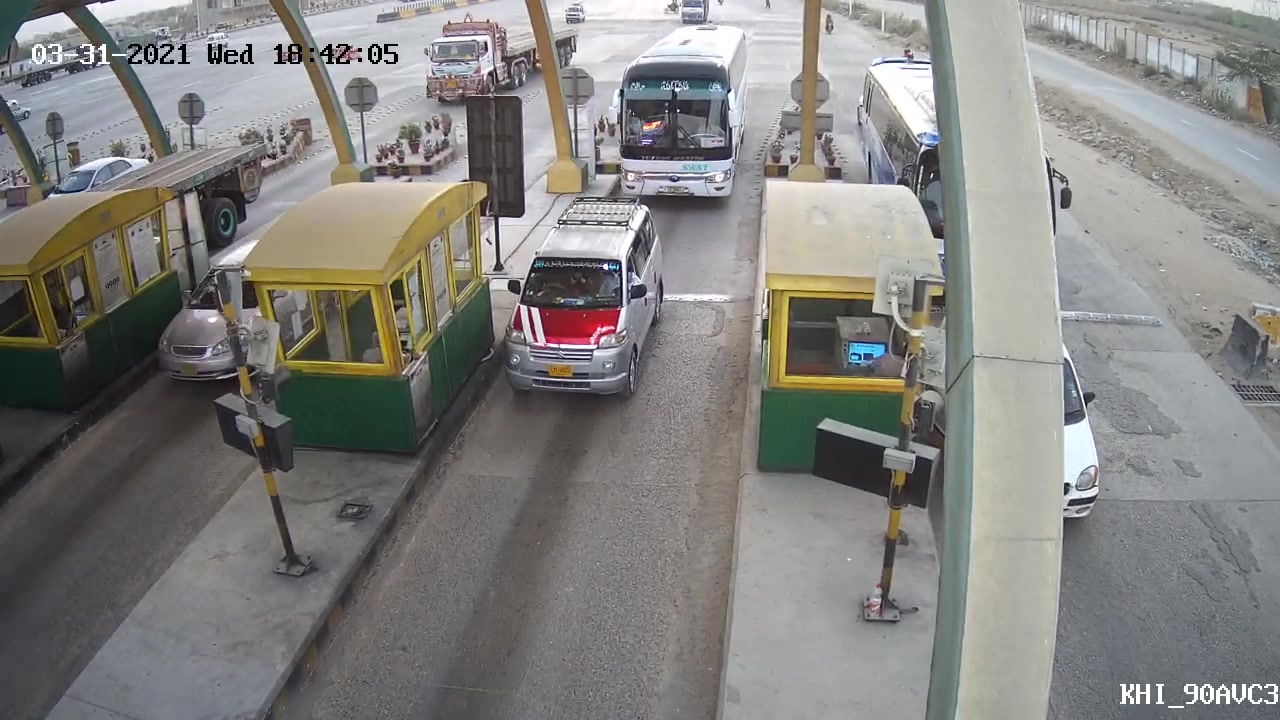F1: (488, 189, 672, 407)
F4: (615, 17, 753, 207)
